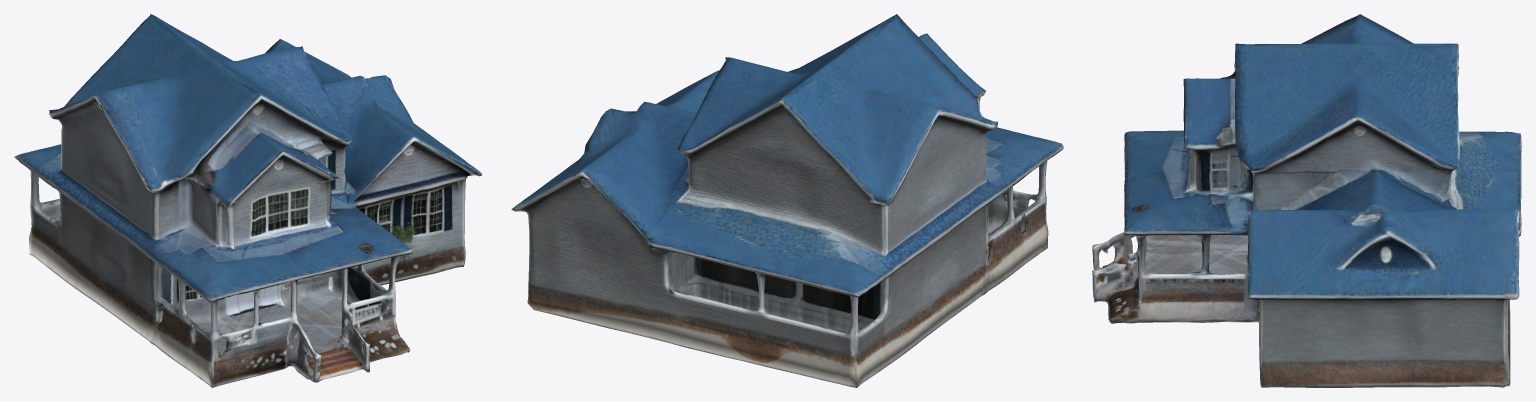
Rendered from house 2.glb.
3 renders of one model, left to right at view 1: azimuth 30°, elevation 25°; view 2: azimuth 150°, elevation 25°; view 3: azimuth 270°, elevation 25°, orthographic. The views are drawn at different scales.
Parts seen in each view (by area): view 1: Mesh_0; view 2: Mesh_0; view 3: Mesh_0.
Part boxes in pixels (x1,y1,x2,y2): Mesh_0: (14,14,482,387); Mesh_0: (511,14,1063,387); Mesh_0: (1092,14,1521,387).
Bounding box in the file's own units: 1.82 × 1.23 × 2.
Materials: 1 (1 with a texture image).
